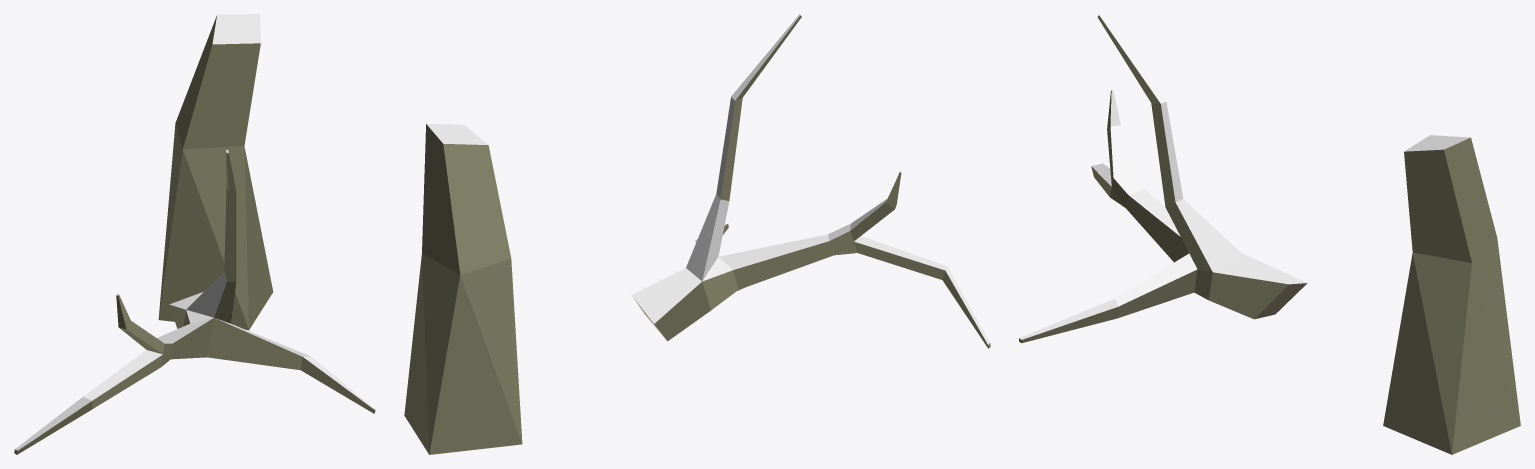
The model's file is Dead_Tree_crk_m_Snow_BT_03.fbx.
3 views of the same model, side by side, from view 1: azimuth 30°, elevation 25°; view 2: azimuth 150°, elevation 25°; view 3: azimuth 270°, elevation 25° (orthographic). The views are drawn at different scales.
Visible parts, largest first — view 1: Dead_Tree_crk_m_Snow_BT_03; view 2: Dead_Tree_crk_m_Snow_BT_03; view 3: Dead_Tree_crk_m_Snow_BT_03.
Boxes of the visible parts, x1,y1,x2,y2 form: Dead_Tree_crk_m_Snow_BT_03: (14, 14, 375, 454); Dead_Tree_crk_m_Snow_BT_03: (404, 14, 990, 454); Dead_Tree_crk_m_Snow_BT_03: (1019, 14, 1520, 454).
Size of the model in its own units: 353 by 260 by 357.
